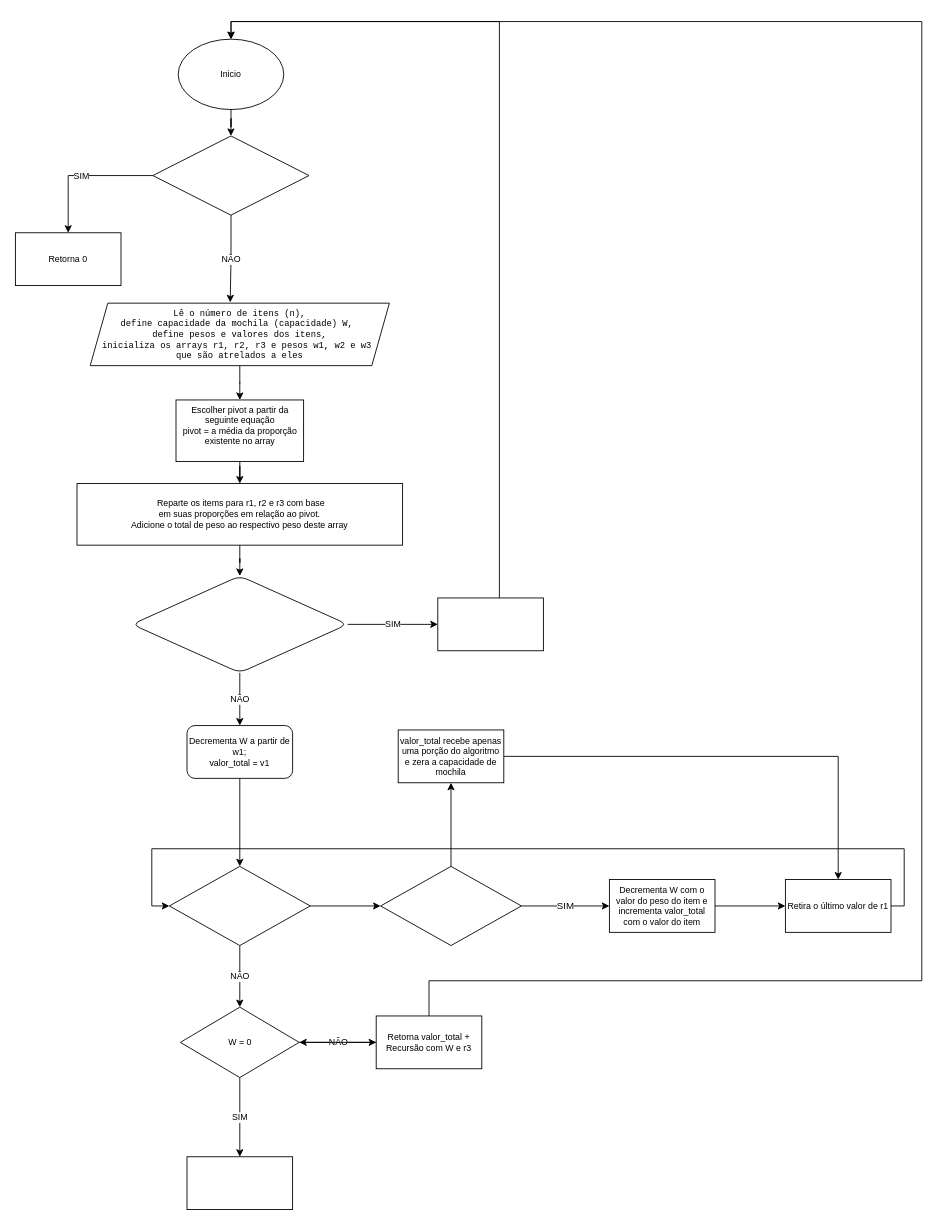
The diagram is 944 pixels wide and 1225 high, and some of its shapes have lost their labels. Here are the shapes that lost their labels. From the top down, the box of each, then its label:
(152, 135, 309, 215): Quantidades de itens = 0
(131, 575, 348, 673): w1 > W
(437, 597, 543, 651): Chamada Recursiva com W e r1
(169, 865, 310, 946): W > 0 and r2 não está vazio
(380, 865, 521, 946): W - proporção do último valor em r2 > 0
(186, 1156, 293, 1210): Retorna valor_total
